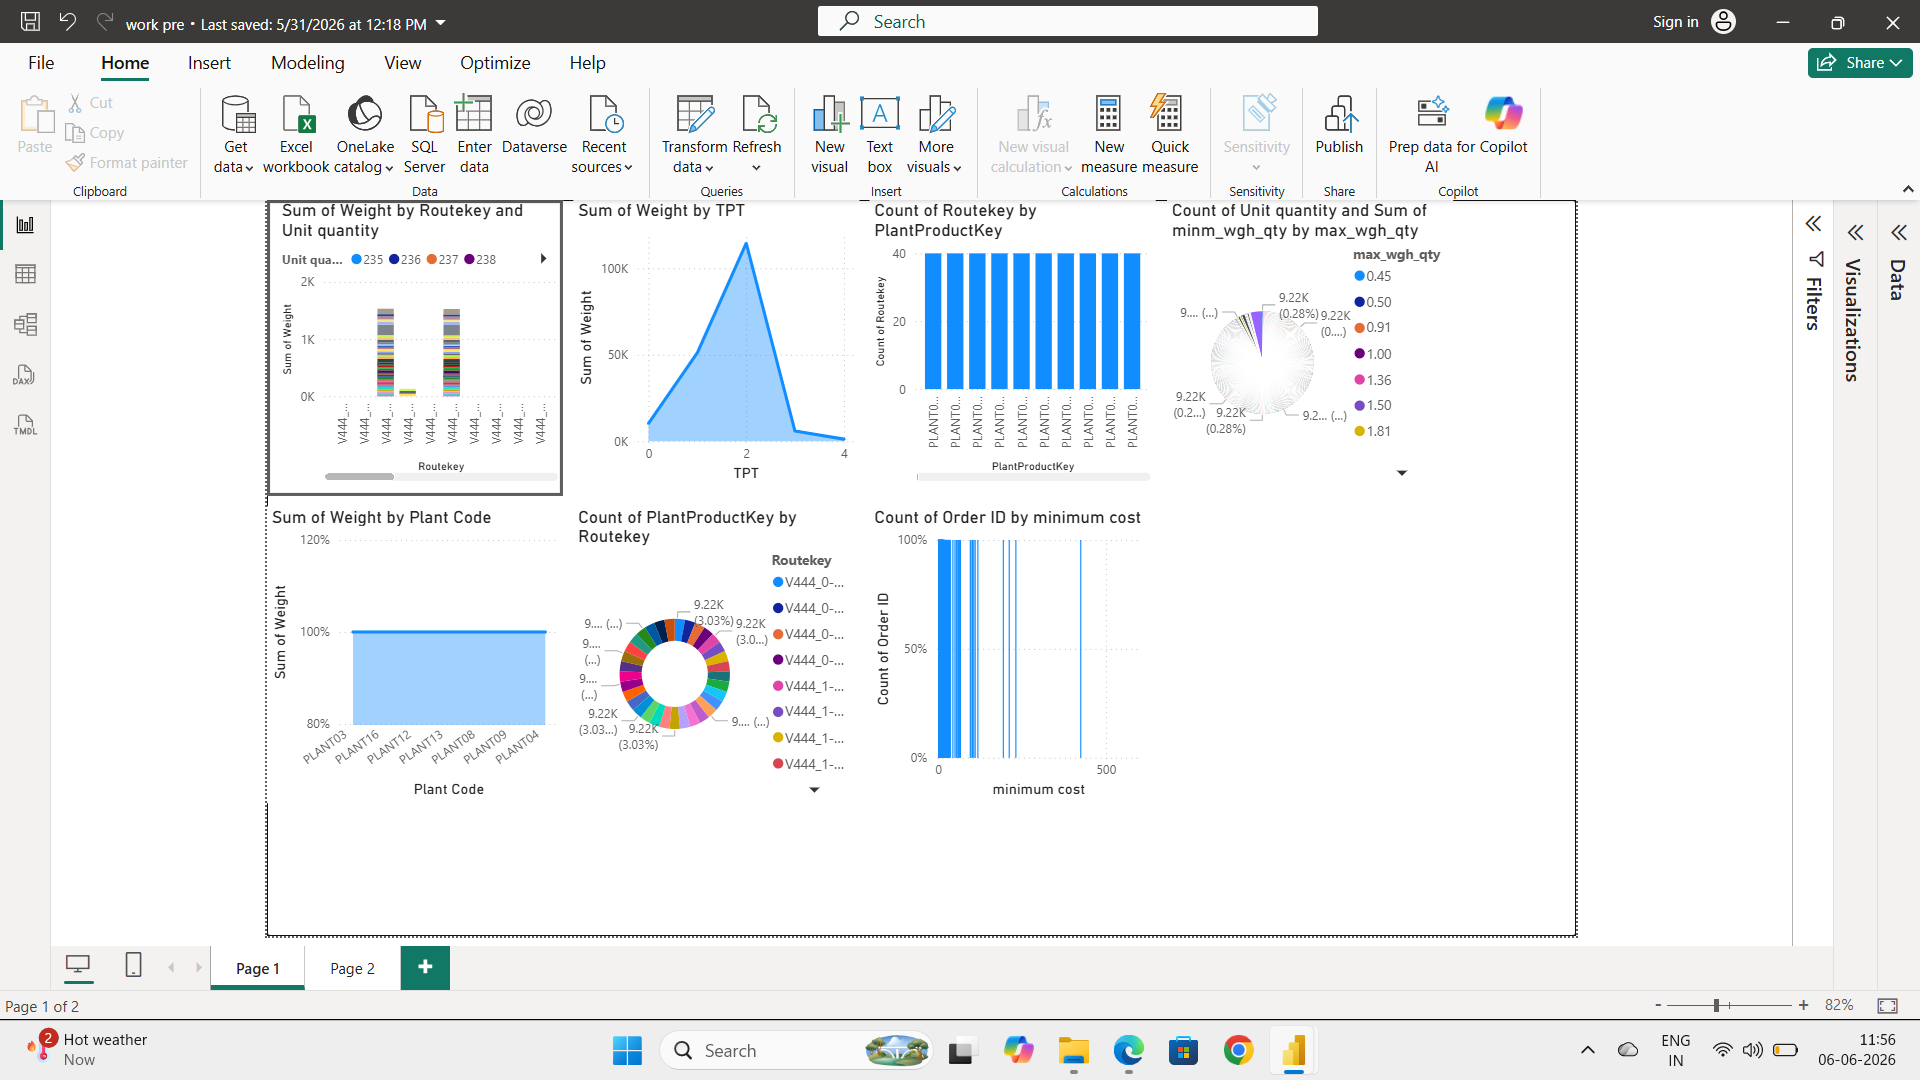

Layout of this report page (visuals, bound fields, positions):
{"tool":"powerbi","page":{"name":"Page 1","canvas":[1280,720],"ordinal":0},"visuals":[{"type":"columnChart","fields":{"Category":["FreightRates.Routekey"],"Y":["Sum(OrderList.Weight)"],"Series":["OrderList.Unit quantity"]},"box":[10,0,280,280],"z":0},{"type":"actionButton","box":[0,0,289.5,289.5],"z":1},{"type":"hundredPercentStackedAreaChart","fields":{"Category":["OrderList.Plant Code"],"Y":["Sum(OrderList.Weight)"]},"box":[0,300,290,290],"z":2},{"type":"areaChart","fields":{"Category":["OrderList.TPT"],"Y":["Sum(OrderList.Weight)"]},"box":[300,0,280,280],"z":3},{"type":"donutChart","fields":{"Category":["FreightRates.Routekey"],"Y":["CountNonNull(OrderList.PlantProductKey)"]},"box":[300,300,280,290],"z":4},{"type":"lineClusteredColumnComboChart","fields":{"Category":["OrderList.PlantProductKey"],"Y":["CountNonNull(FreightRates.Routekey)"]},"box":[590,0,280,280],"z":5},{"type":"hundredPercentStackedColumnChart","fields":{"Category":["FreightRates.minimum cost"],"Y":["CountNonNull(OrderList.Order ID)"]},"box":[590,300,280,290],"z":6},{"type":"pieChart","fields":{"Category":["FreightRates.max_wgh_qty"],"Y":["CountNonNull(OrderList.Unit quantity)","Sum(FreightRates.minm_wgh_qty)"]},"box":[880,0,280,280],"z":7}]}

Visuals, with their boxes on the page's 1280x720 design canvas (x1, y1, x2, y2). These are canvas units, not pixel positions in the 1920x1080 screenshot, which may show the page scaled, cropped or inside an application window:
columnChart - FreightRates.Routekey x Sum(OrderList.Weight): [10, 0, 290, 280]
actionButton: [0, 0, 290, 290]
hundredPercentStackedAreaChart - OrderList.Plant Code x Sum(OrderList.Weight): [0, 300, 290, 590]
areaChart - OrderList.TPT x Sum(OrderList.Weight): [300, 0, 580, 280]
donutChart - FreightRates.Routekey x CountNonNull(OrderList.PlantProductKey): [300, 300, 580, 590]
lineClusteredColumnComboChart - OrderList.PlantProductKey x CountNonNull(FreightRates.Routekey): [590, 0, 870, 280]
hundredPercentStackedColumnChart - FreightRates.minimum cost x CountNonNull(OrderList.Order ID): [590, 300, 870, 590]
pieChart - FreightRates.max_wgh_qty x CountNonNull(OrderList.Unit quantity): [880, 0, 1160, 280]
